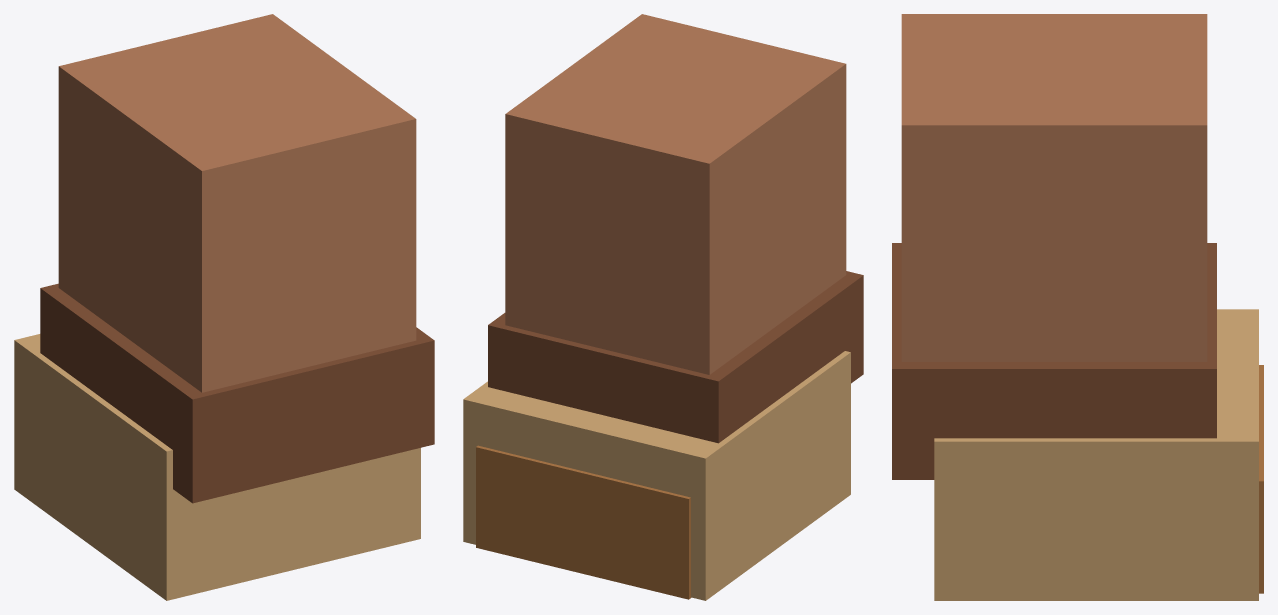
File: forearm.glb
3 renders of one model, left to right at view 1: azimuth 30°, elevation 25°; view 2: azimuth 150°, elevation 25°; view 3: azimuth 270°, elevation 25°, orthographic. The views are drawn at different scales.
Bounding box in the file's own units: 0.164 × 0.269 × 0.1945.
Materials: 1 (1 with a texture image).
